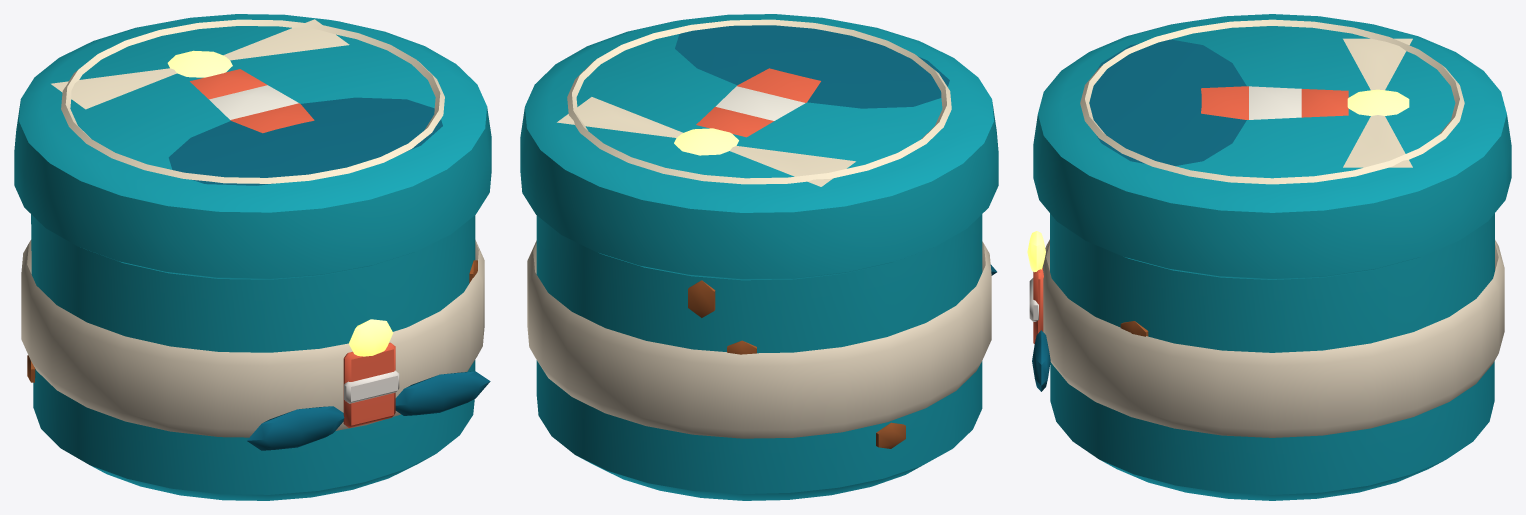
The model's file is tin.glb.
3 views of the same model, side by side, from view 1: azimuth 30°, elevation 25°; view 2: azimuth 150°, elevation 25°; view 3: azimuth 270°, elevation 25° (orthographic).
Parts seen in each view (by area): view 1: tin; view 2: tin; view 3: tin.
Part boxes in pixels (box(x1,y1,x2,y2)): tin: box(14, 14, 491, 500); tin: box(520, 14, 998, 500); tin: box(1027, 14, 1511, 500).
Bounding box in the file's own units: 0.408 × 0.305 × 0.413.
